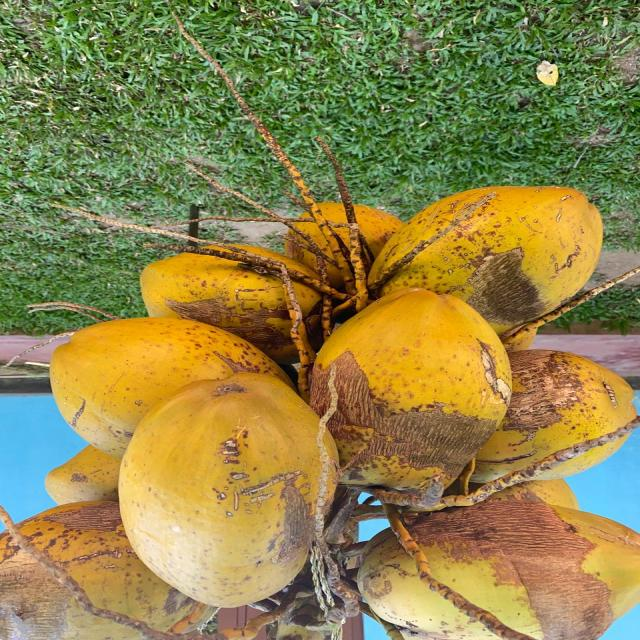coconut: (117, 375, 331, 608), (310, 292, 510, 496), (357, 499, 626, 640), (51, 319, 302, 462), (370, 188, 598, 333), (2, 503, 215, 639), (465, 350, 636, 484), (139, 248, 329, 356), (284, 202, 401, 293), (45, 443, 125, 508)
